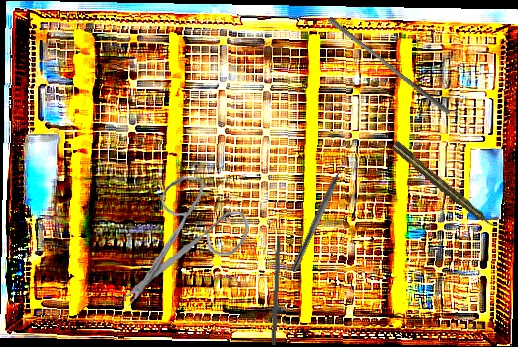Chopper: (290, 156, 355, 276)
Handpiece: (389, 138, 499, 234)
Hook Surgical: (270, 216, 284, 346)
Iris Scissors: (118, 172, 254, 315)
Pusher: (324, 16, 455, 115)
